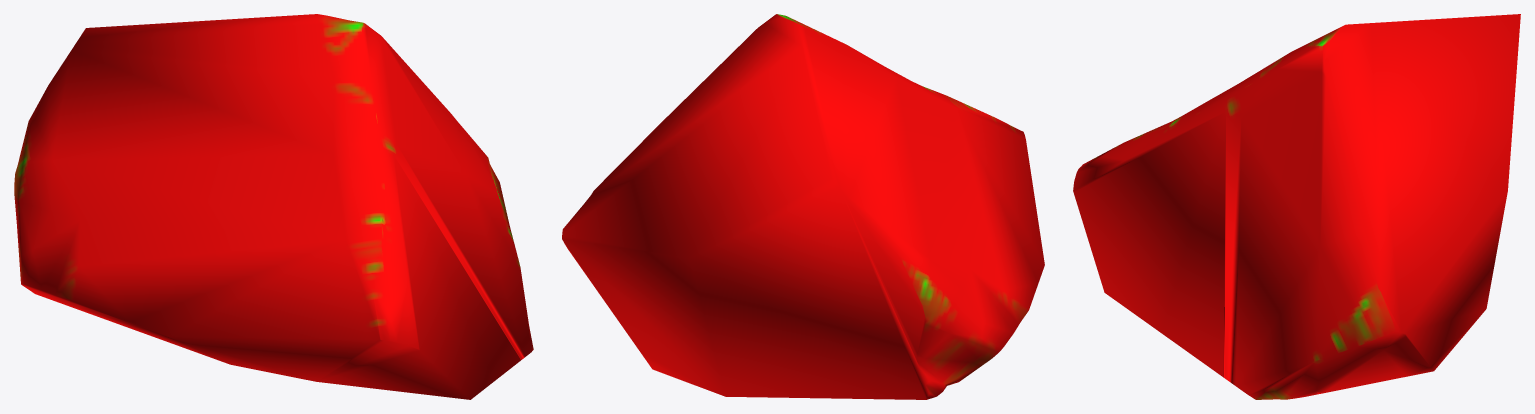
Rendered from SM_Debris_B.fbx.
The picture shows the model from 3 angles, left to right: view 1: azimuth 30°, elevation 25°; view 2: azimuth 150°, elevation 25°; view 3: azimuth 270°, elevation 25°; orthographic projection. The views are drawn at different scales.
Visible parts, largest first — view 1: SM_Debris_B; view 2: SM_Debris_B; view 3: SM_Debris_B.
Part boxes in pixels (<box>): SM_Debris_B: <box>14,14,533,399</box>; SM_Debris_B: <box>562,14,1044,399</box>; SM_Debris_B: <box>1073,14,1520,399</box>.
Bounding box in the file's own units: 248 × 175 × 233.
